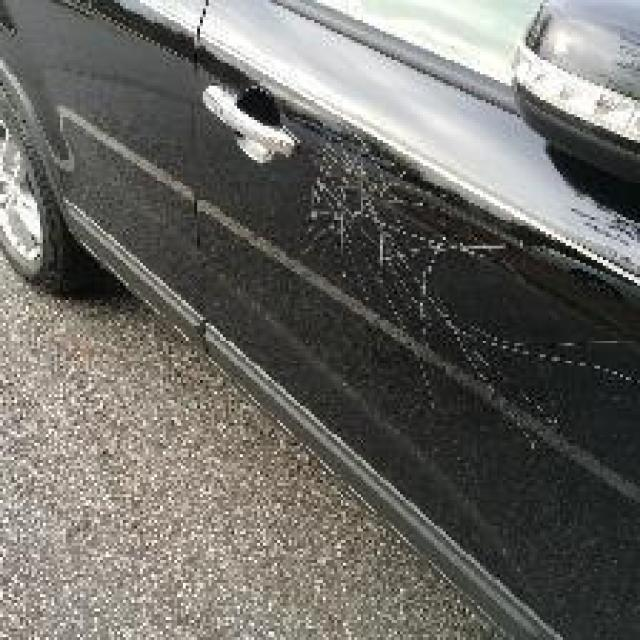damaged: (300, 120, 637, 457)
